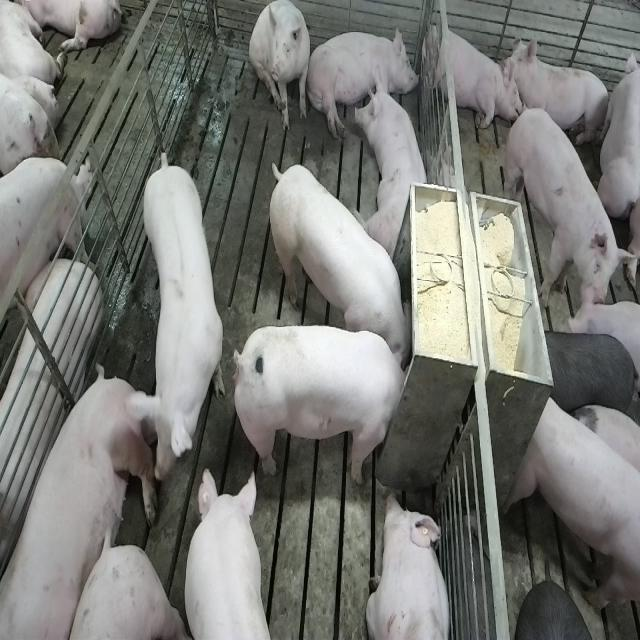Feeding: (264, 160, 412, 367), (228, 323, 409, 483)
Lateral_lying: (0, 259, 100, 610), (306, 22, 420, 140)
Sitting: (249, 2, 312, 134)
Standing: (506, 391, 638, 628), (136, 148, 224, 476), (503, 110, 624, 321), (0, 159, 93, 347), (188, 467, 286, 640), (538, 327, 636, 426)
Sternal_lying: (355, 74, 433, 259), (366, 490, 453, 640), (505, 35, 612, 153), (424, 19, 516, 132)
